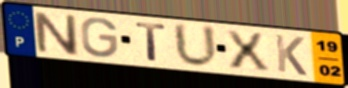G: (79, 16, 120, 59)
K: (273, 33, 309, 78)
N: (30, 10, 82, 58)
T: (133, 20, 169, 64)
U: (171, 21, 221, 70)
X: (222, 28, 273, 73)
